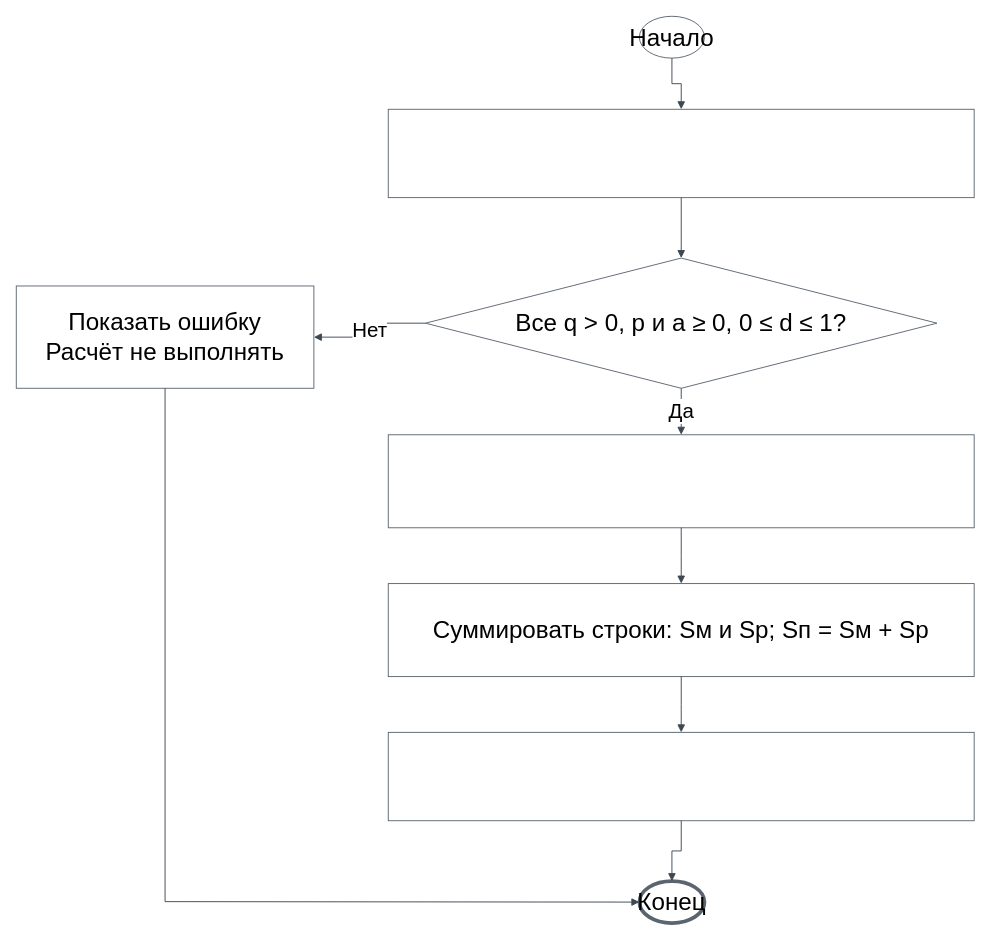
Image size: 990x941. Some labels were removed from this diagram. Each missing label, with the centre of its shape:
Вывести три суммы и валюту: (x=680, y=776)
Для каждой строки: round(q × p × (1−d),2) и round(q × a,2): (x=680, y=481)
Получить позиции и цены: (x=680, y=153)
